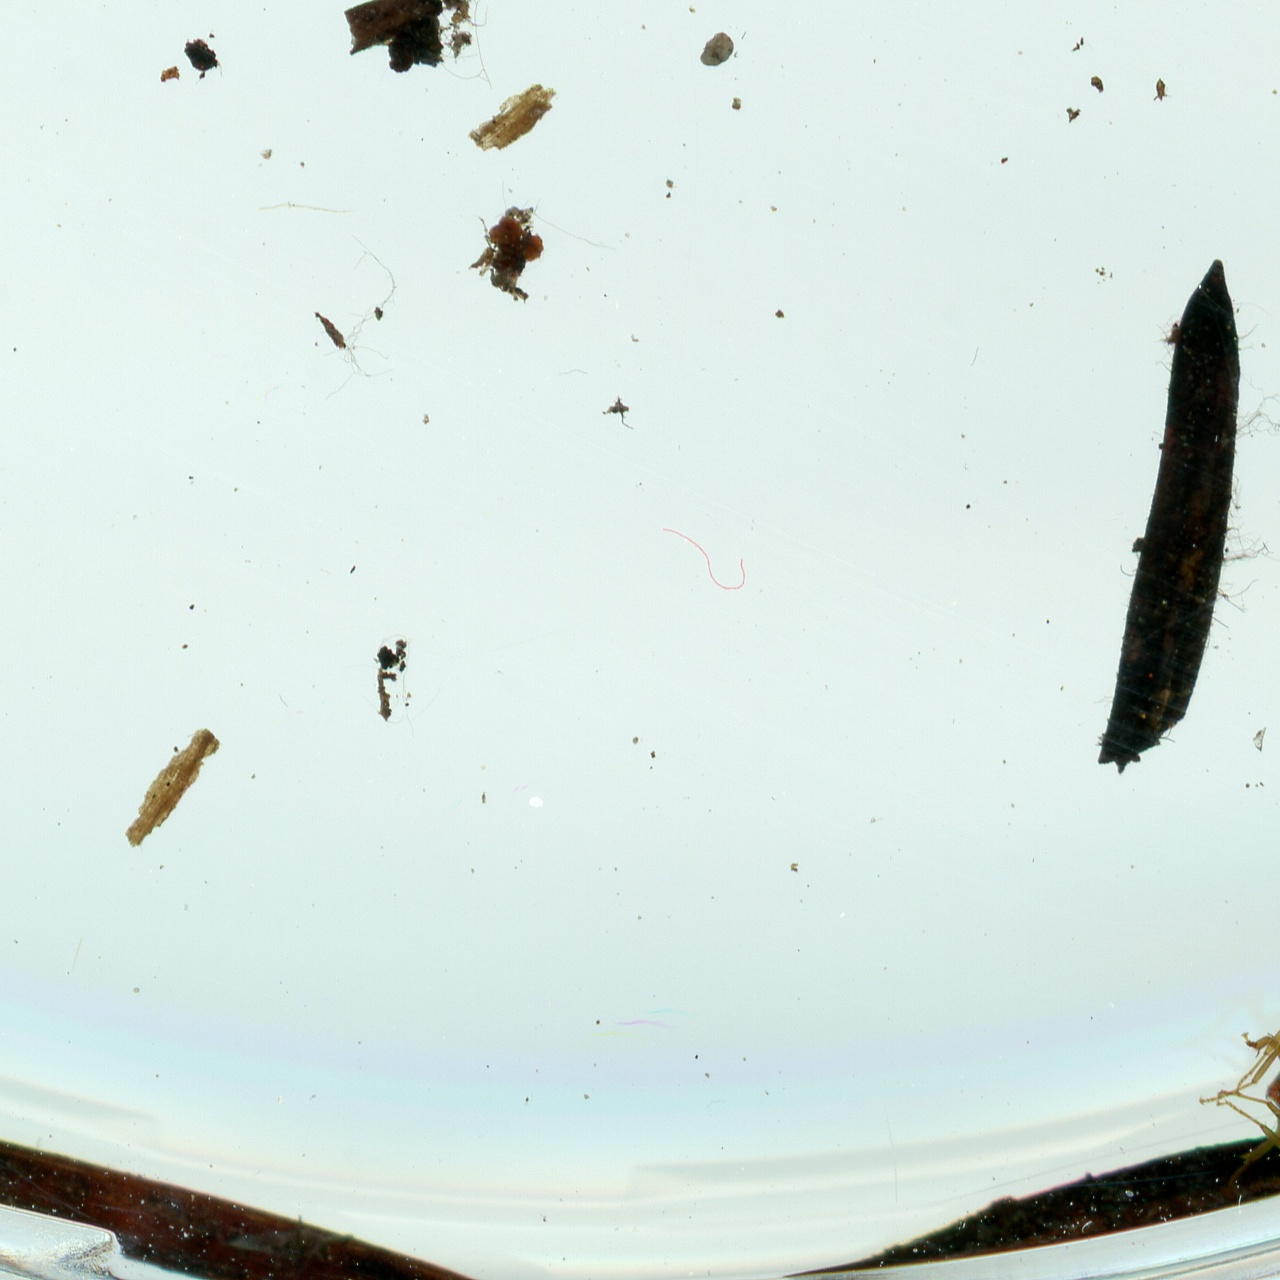arthropod: (1194, 1017, 1280, 1199)
